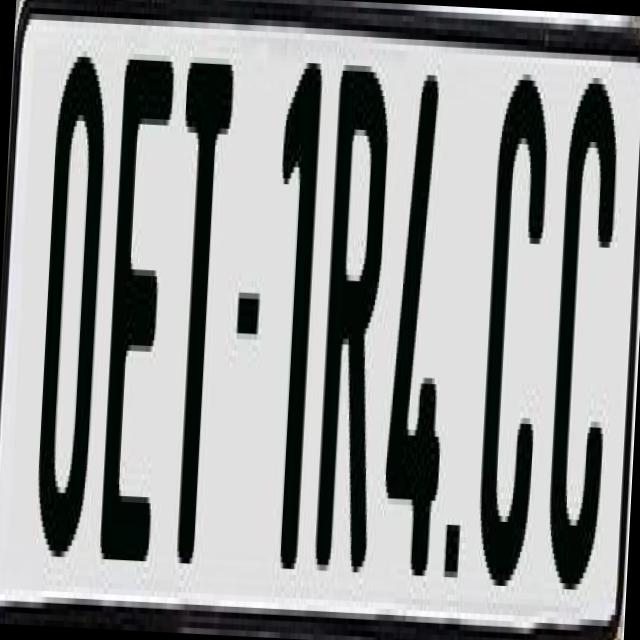0: (34, 50, 118, 564)
1: (260, 44, 328, 564)
4: (380, 63, 463, 571)
C: (474, 67, 554, 593), (542, 70, 620, 590)
E: (96, 59, 176, 590)
R: (312, 53, 394, 596)
T: (158, 51, 234, 588)
